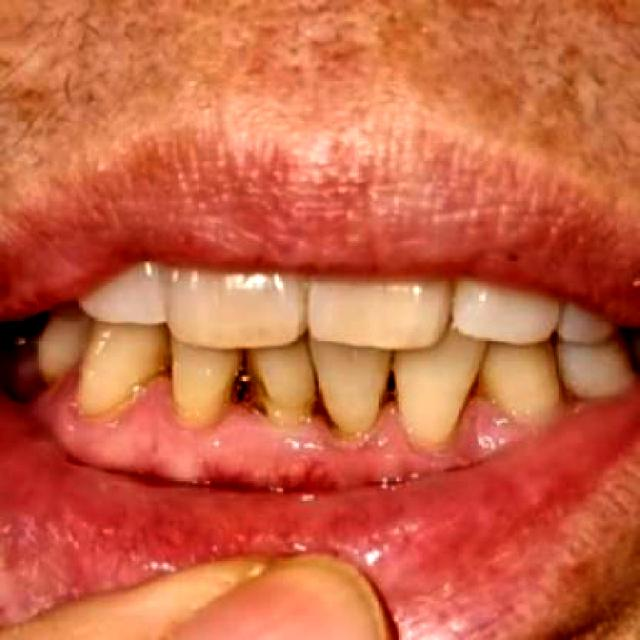Plaque: (84, 380, 512, 489), (42, 376, 74, 430)
